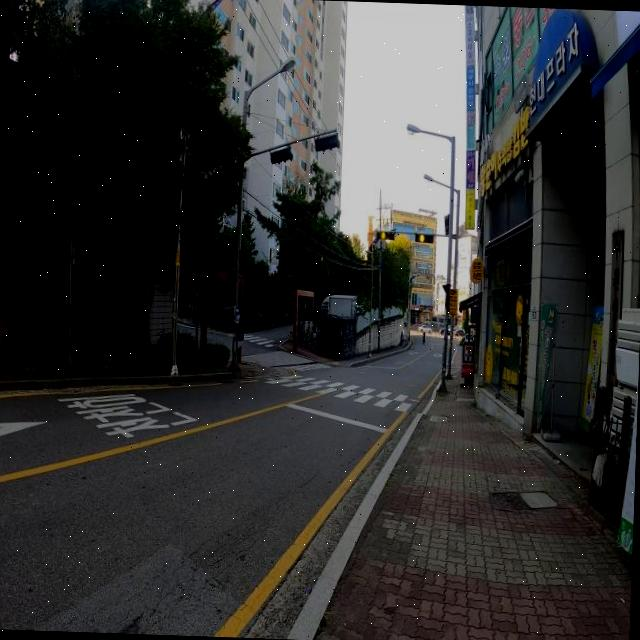crosswalk: (259, 374, 421, 413), (227, 333, 279, 348), (282, 362, 331, 371)
